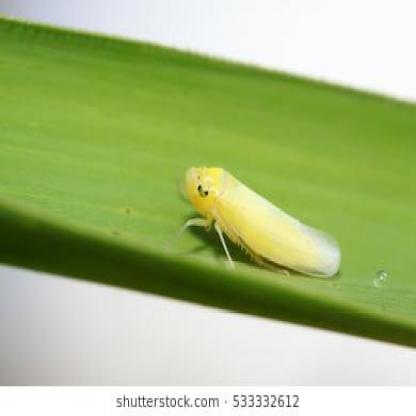Green-Leafhopper: (177, 156, 342, 286)
